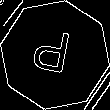P_S: (32, 27, 78, 83)
